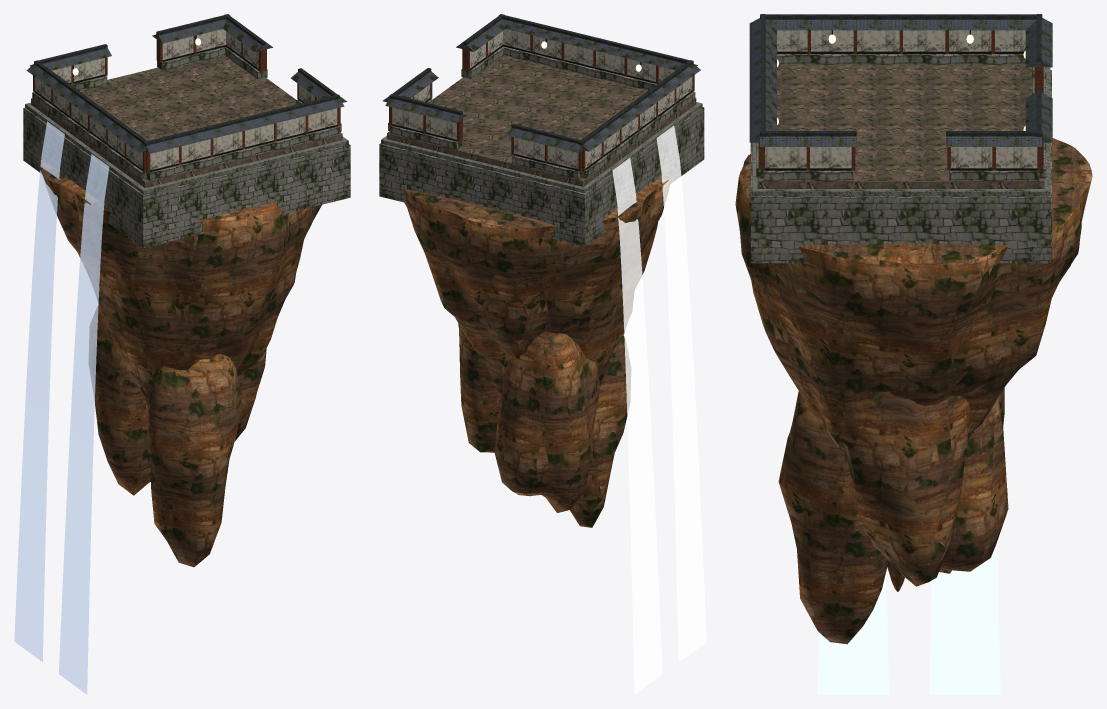
The model's file is Room_Start.fbx.
3 views of the same model, side by side, from view 1: azimuth 30°, elevation 25°; view 2: azimuth 150°, elevation 25°; view 3: azimuth 270°, elevation 25° (orthographic). The views are drawn at different scales.
Parts seen in each view (by area): view 1: Start_Rock_LOD0, Start_Structure_LOD0, Waterfall_0, Waterfall_1; view 2: Start_Rock_LOD0, Start_Structure_LOD0, Waterfall_0, Waterfall_1; view 3: Start_Rock_LOD0, Start_Structure_LOD0, Waterfall_1, Waterfall_0.
Part boxes in pixels (bbox=[...]): Start_Rock_LOD0: bbox=[40, 159, 321, 567]; Start_Structure_LOD0: bbox=[23, 14, 350, 248]; Waterfall_0: bbox=[59, 154, 109, 694]; Waterfall_1: bbox=[14, 121, 64, 661]; Start_Rock_LOD0: bbox=[403, 169, 672, 527]; Start_Structure_LOD0: bbox=[379, 14, 704, 246]; Waterfall_0: bbox=[656, 125, 706, 662]; Waterfall_1: bbox=[612, 158, 662, 694]; Start_Rock_LOD0: bbox=[735, 138, 1092, 644]; Start_Structure_LOD0: bbox=[749, 14, 1052, 263]; Waterfall_1: bbox=[929, 541, 1000, 694]; Waterfall_0: bbox=[817, 571, 888, 694].
Size of what is drawn, in the model's own units: 24.17 by 48.65 by 22.39.
